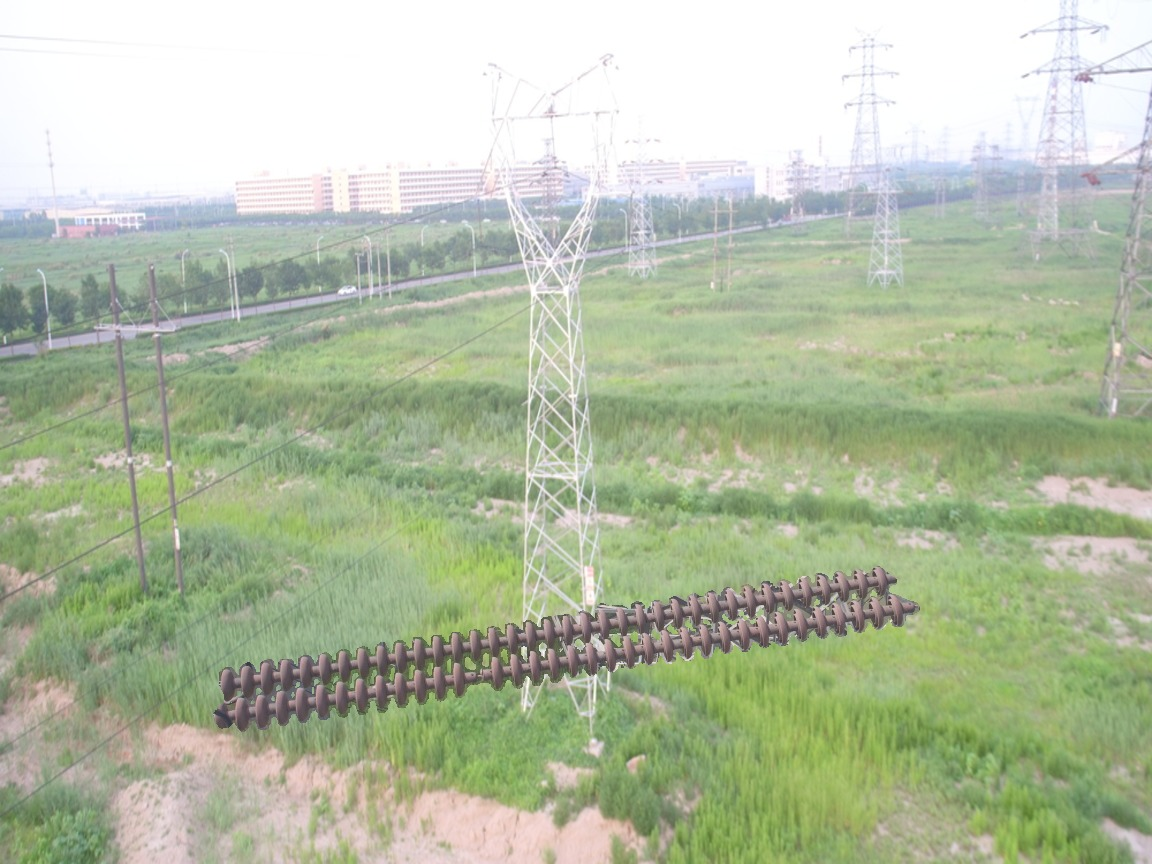defect: (447, 654, 508, 698)
